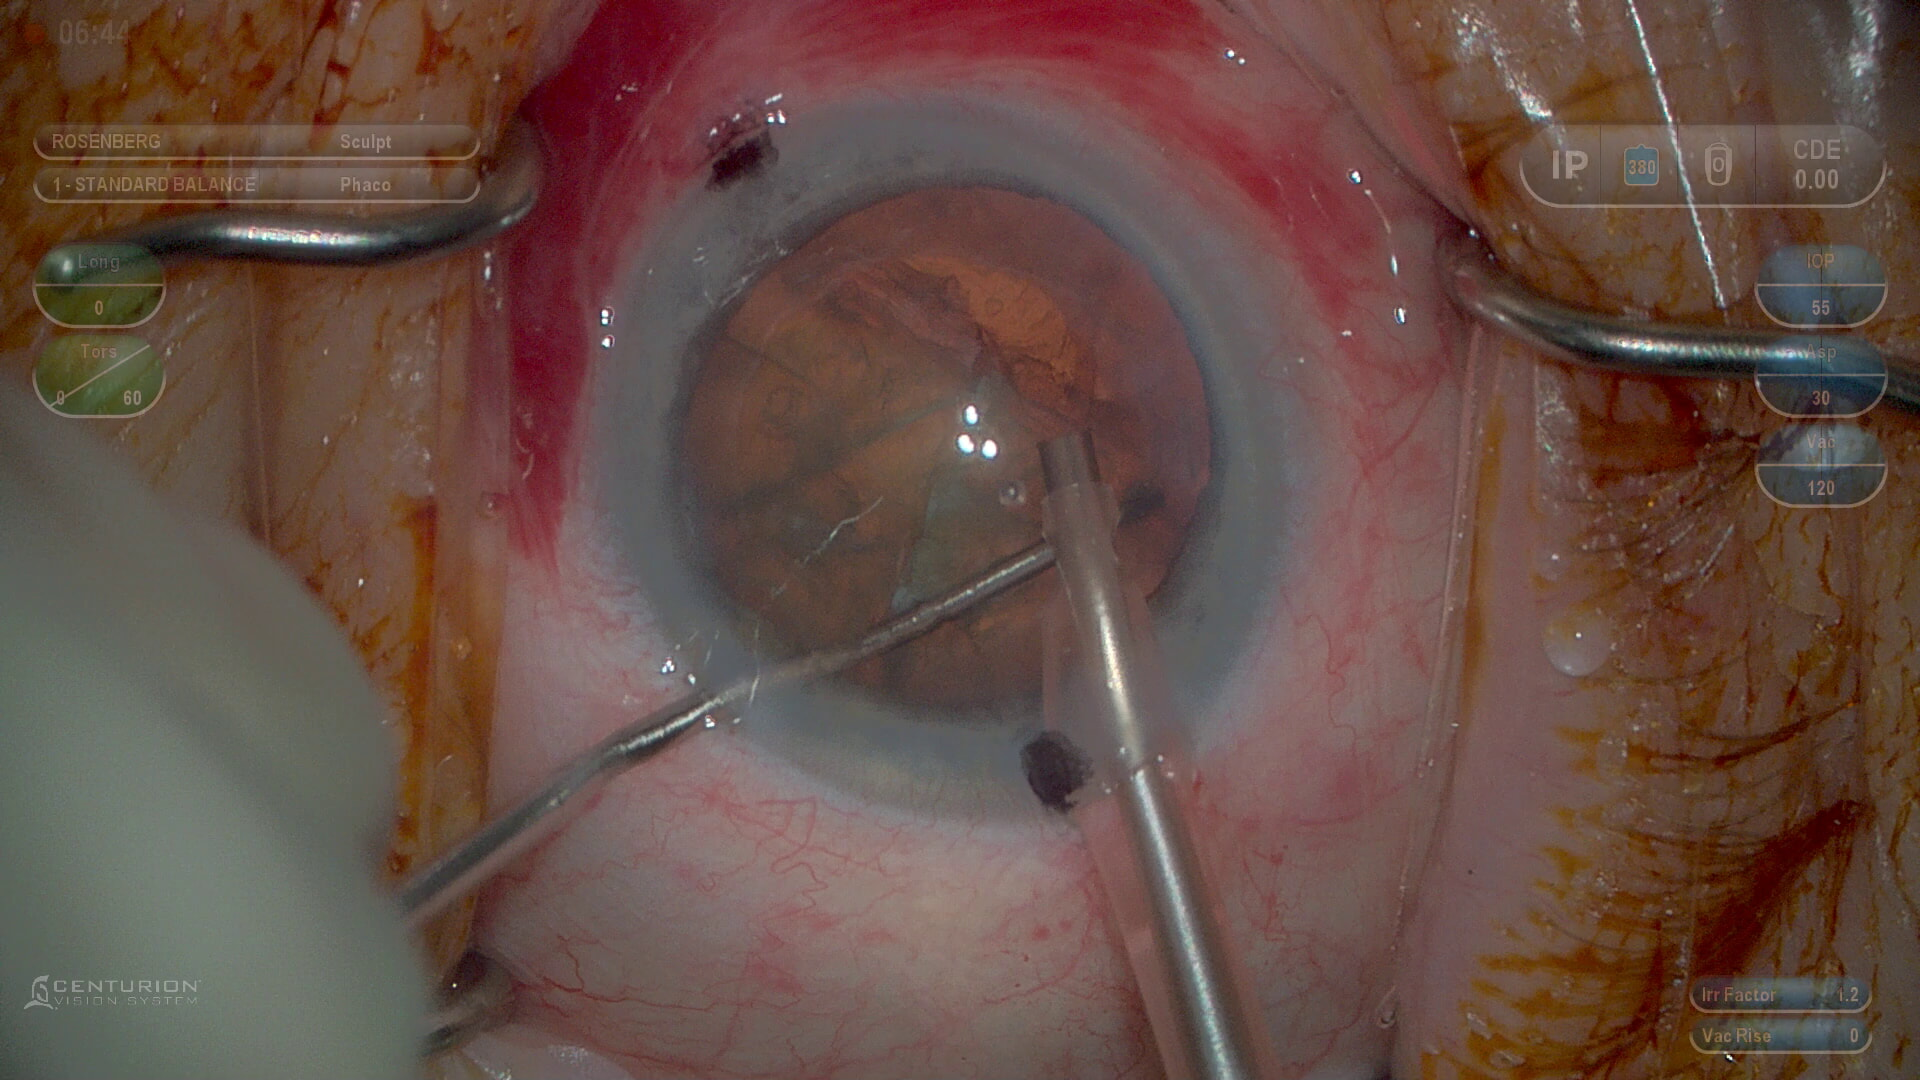iris: (610, 102, 1289, 814)
pupil: (677, 185, 1223, 714)
